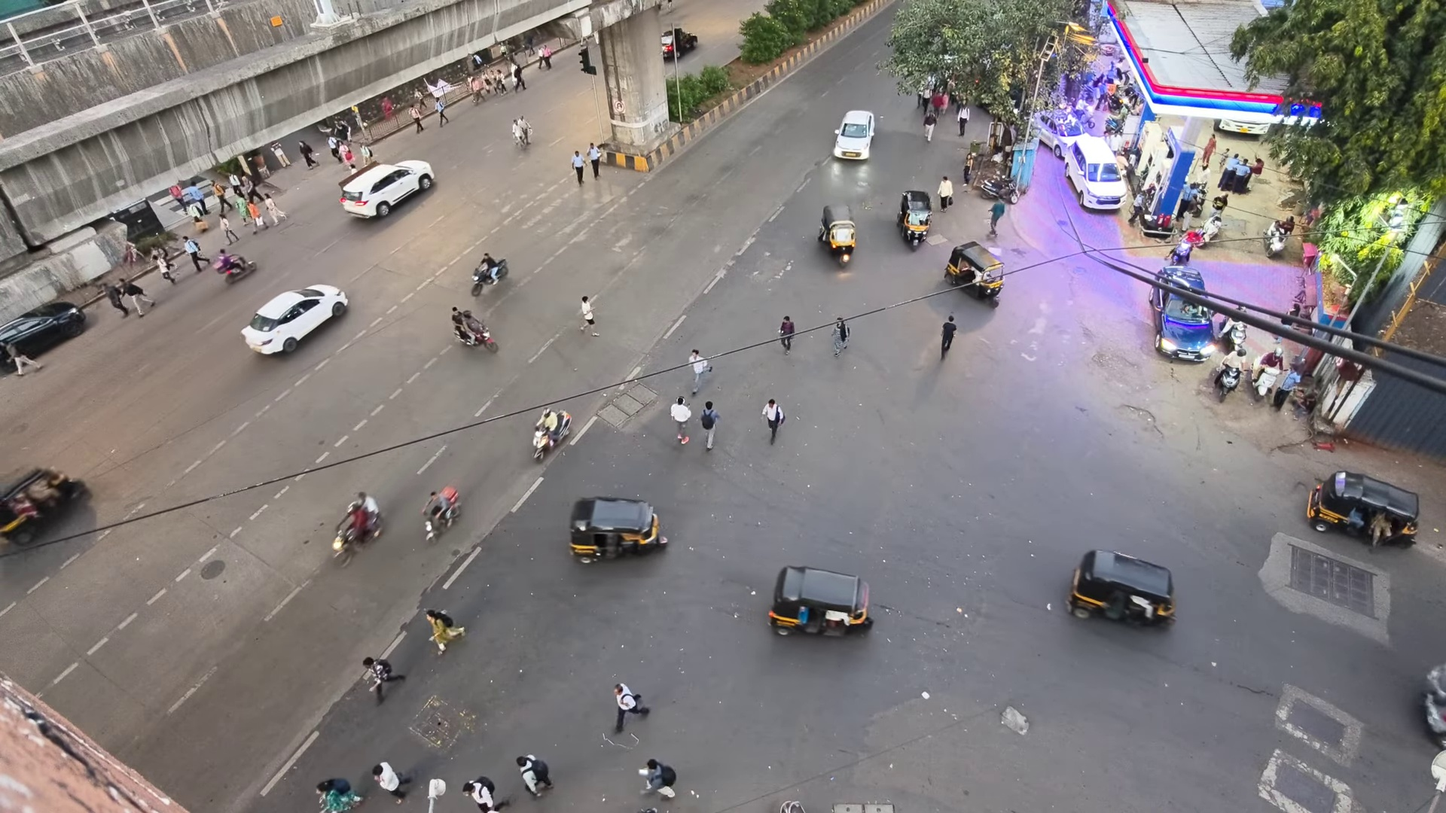driving: (242, 285, 347, 354), (1149, 266, 1216, 361), (340, 160, 434, 218), (832, 110, 876, 160)
walking: (362, 657, 404, 704), (614, 684, 649, 732), (462, 776, 508, 812), (425, 610, 465, 651), (372, 762, 411, 803), (316, 779, 362, 812), (516, 755, 552, 796), (119, 278, 155, 316), (0, 343, 41, 376), (643, 759, 676, 798), (1273, 369, 1300, 410), (762, 398, 785, 444), (689, 349, 712, 394), (670, 397, 691, 443), (183, 237, 209, 273), (102, 283, 128, 317), (700, 401, 718, 449), (184, 184, 209, 215), (831, 316, 849, 356), (580, 297, 598, 336), (264, 193, 286, 224), (778, 316, 795, 355), (211, 181, 232, 212), (247, 202, 268, 233), (941, 315, 956, 358), (218, 214, 239, 244), (298, 141, 318, 169), (1128, 190, 1144, 224), (990, 199, 1005, 235), (1201, 133, 1216, 169), (938, 175, 953, 210), (271, 142, 291, 167), (587, 143, 601, 178), (923, 109, 937, 141), (957, 102, 970, 136), (571, 151, 584, 184), (340, 143, 355, 170), (327, 136, 341, 163), (410, 104, 423, 132), (435, 99, 448, 126), (512, 65, 526, 90), (359, 143, 374, 166), (539, 45, 551, 69), (228, 173, 240, 195)
